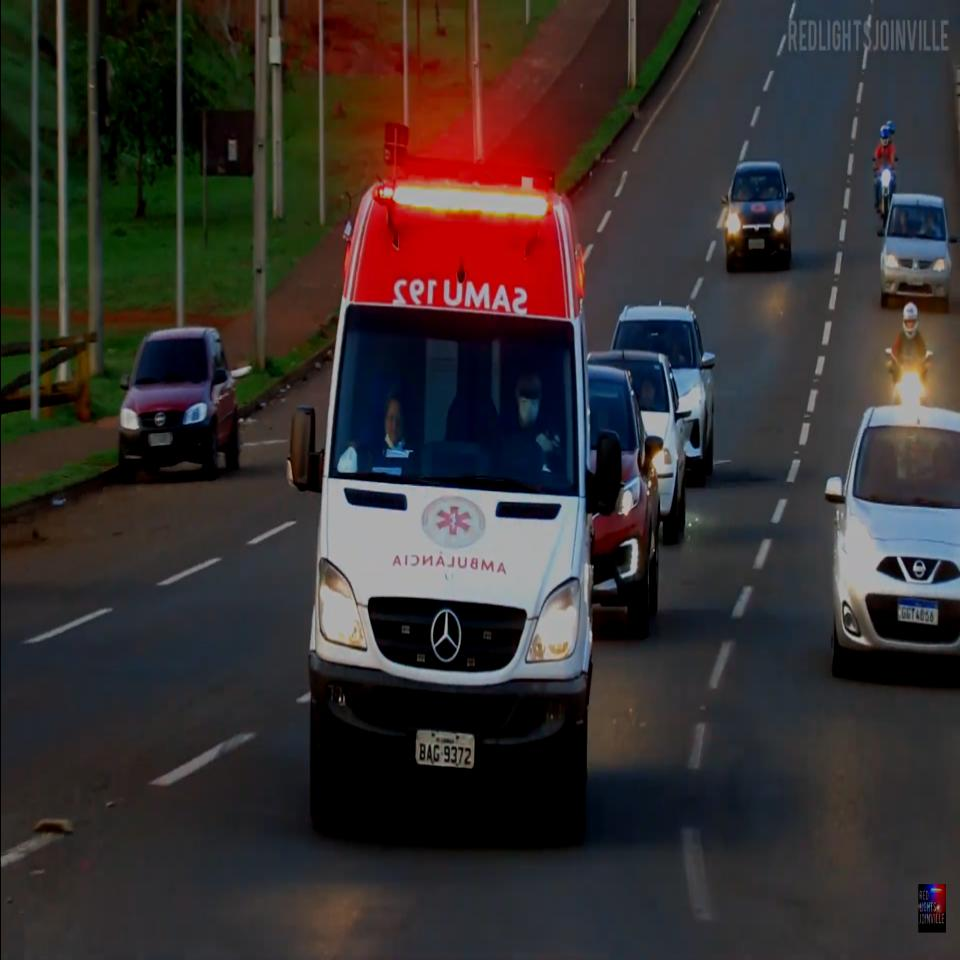ambulancia: (288, 122, 626, 841)
